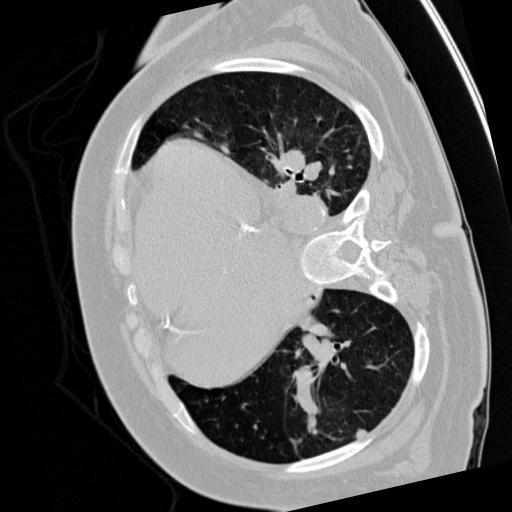nodule: (353, 427, 371, 445)
